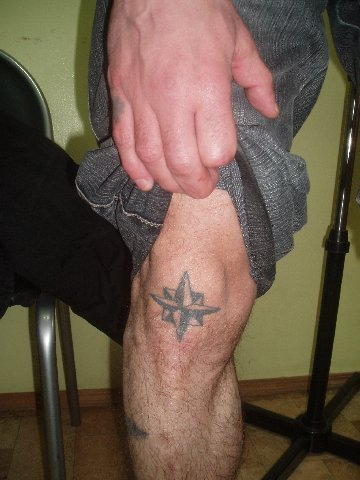tatu4_zvezda: (145, 271, 223, 344)
